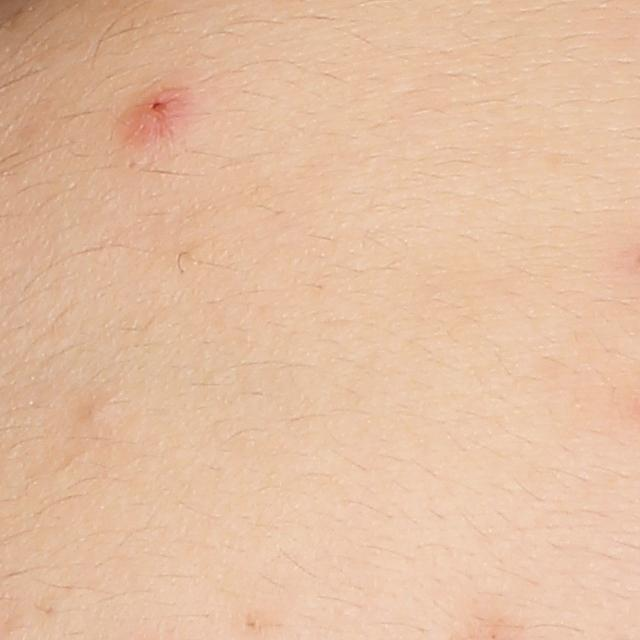comedo: (80, 399, 110, 427)
papule: (133, 89, 183, 130)
